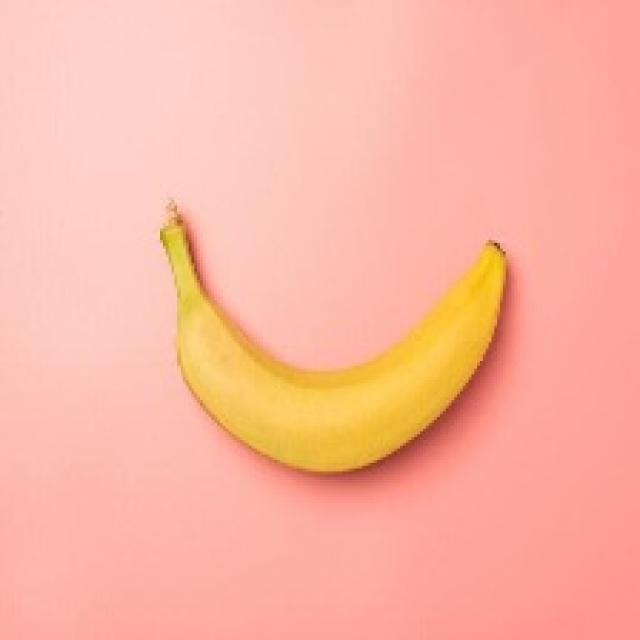Banana: (157, 197, 509, 474)
